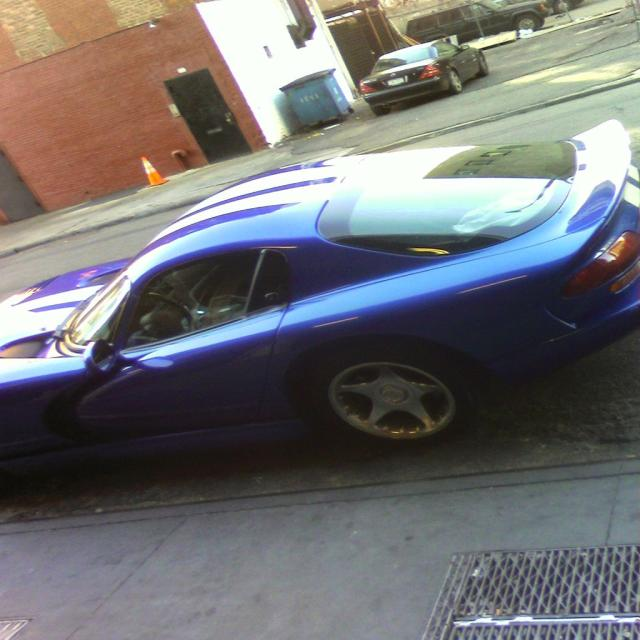car: (29, 97, 607, 474), (362, 39, 482, 110)
